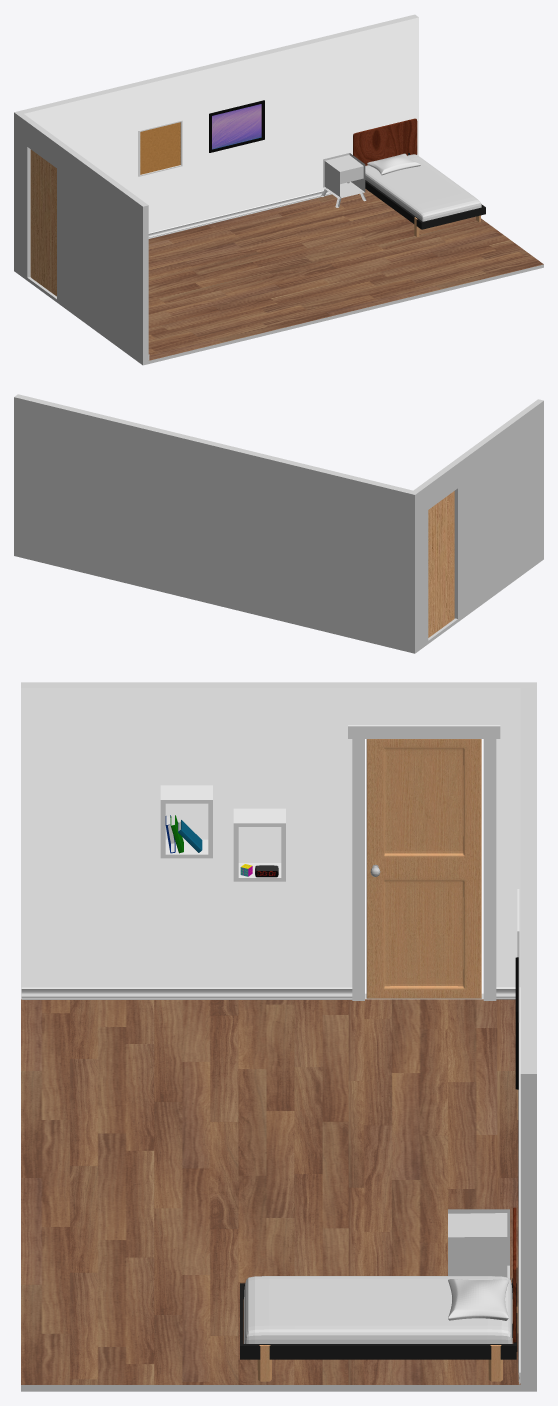
Rendered from Zroom 2 extra furniture.glb.
3 renders of one model, top to bottom at view 1: azimuth 30°, elevation 25°; view 2: azimuth 150°, elevation 25°; view 3: azimuth 270°, elevation 25°, orthographic. The views are drawn at different scales.
Visible parts, largest first — view 1: Cube, Cube.004, Plane, Plane.002, Cube.006, Plane.003, Cube.008, Plane.001, Cube.005, Cube.007; view 2: Cube, Plane; view 3: Cube, Plane, Cube.004, Plane.001, Cube.005, Cube.001, Cube.008, Cube.007.
Part boxes in pixels (<box>): Cube: <box>14,14,543,365</box>; Cube.004: <box>365,154,481,221</box>; Plane: <box>30,149,56,296</box>; Plane.002: <box>209,100,264,152</box>; Cube.006: <box>353,118,417,165</box>; Plane.003: <box>138,120,182,176</box>; Cube.008: <box>321,153,366,207</box>; Plane.001: <box>148,190,331,360</box>; Cube.005: <box>358,153,485,236</box>; Cube.007: <box>367,153,420,175</box>; Cube: <box>14,394,543,653</box>; Plane: <box>428,491,454,637</box>; Cube: <box>21,682,536,1391</box>; Plane: <box>366,739,481,998</box>; Cube.004: <box>244,1276,512,1343</box>; Plane.001: <box>21,987,520,1384</box>; Cube.005: <box>240,1268,517,1381</box>; Cube.001: <box>160,785,285,881</box>; Cube.008: <box>448,1209,510,1280</box>; Cube.007: <box>448,1279,508,1320</box>.
Size of the model in its own units: 259 by 97.84 by 144.
26 materials, 7 textured.
